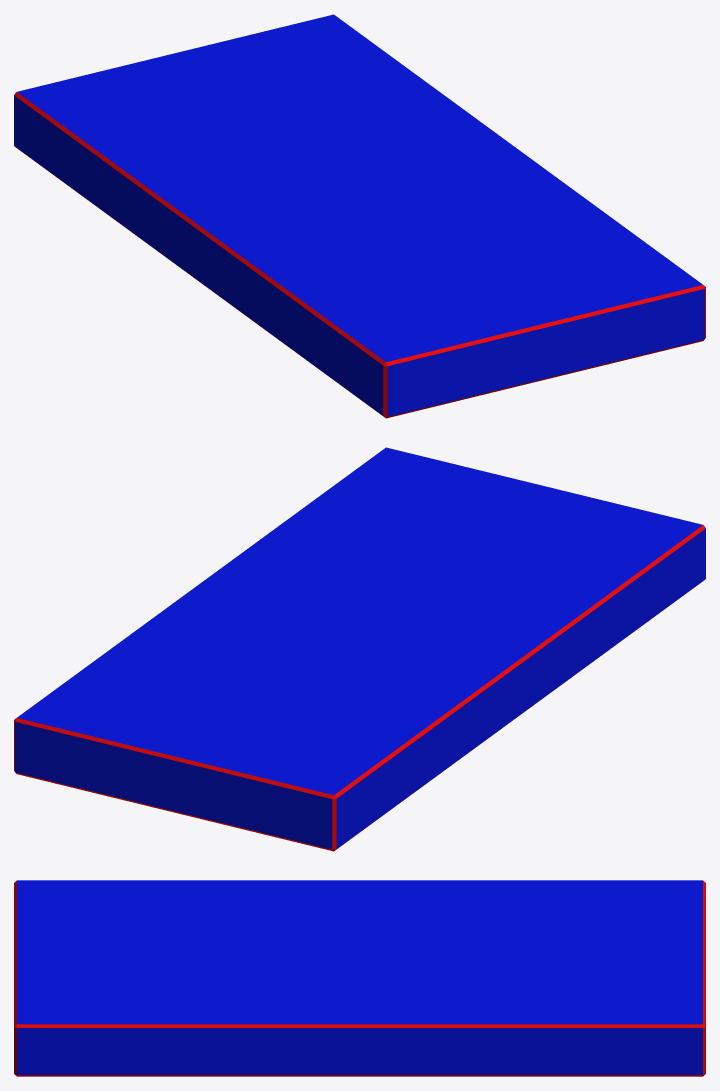
Rendered from L10_EndPlateform.fbx.
3 views of the same model, one above another, from view 1: azimuth 30°, elevation 25°; view 2: azimuth 150°, elevation 25°; view 3: azimuth 270°, elevation 25° (orthographic). The views are drawn at different scales.
Visible parts, largest first — view 1: L10_EndPlateform; view 2: L10_EndPlateform; view 3: L10_EndPlateform.
Boxes of the visible parts, box(x1,y1,x2,y2) form: L10_EndPlateform: box(14, 14, 705, 418); L10_EndPlateform: box(14, 447, 705, 851); L10_EndPlateform: box(14, 880, 705, 1076).
Size of the model in its own units: 600 by 100 by 1200.
